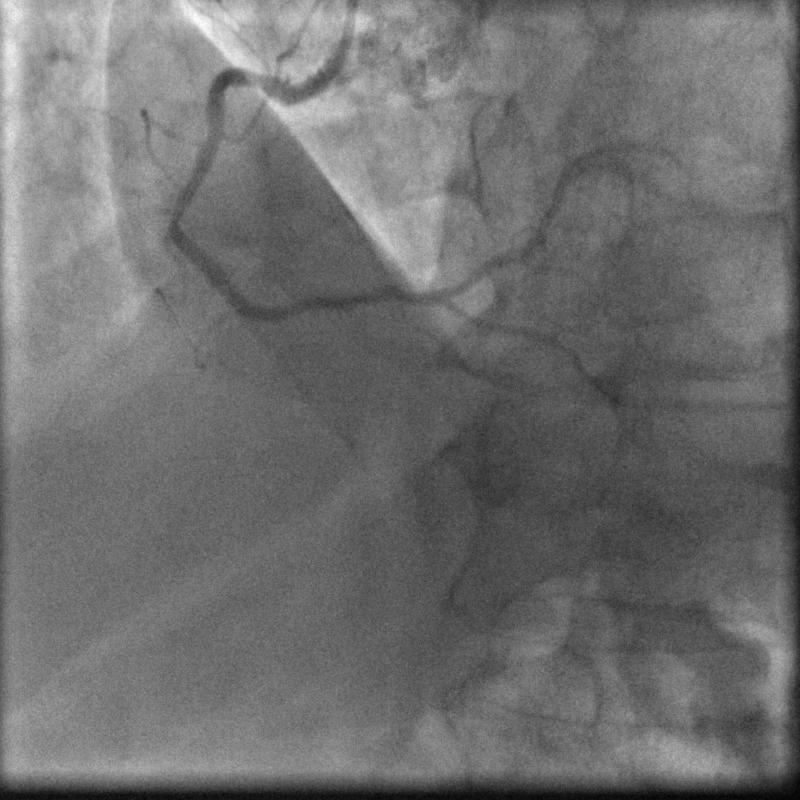Stenosis: (167, 197, 186, 225)
